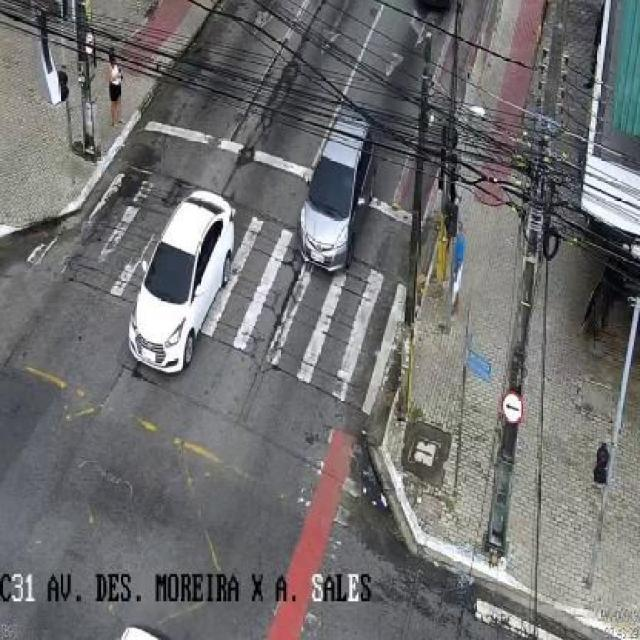Car: (127, 188, 236, 376), (300, 113, 378, 273)
